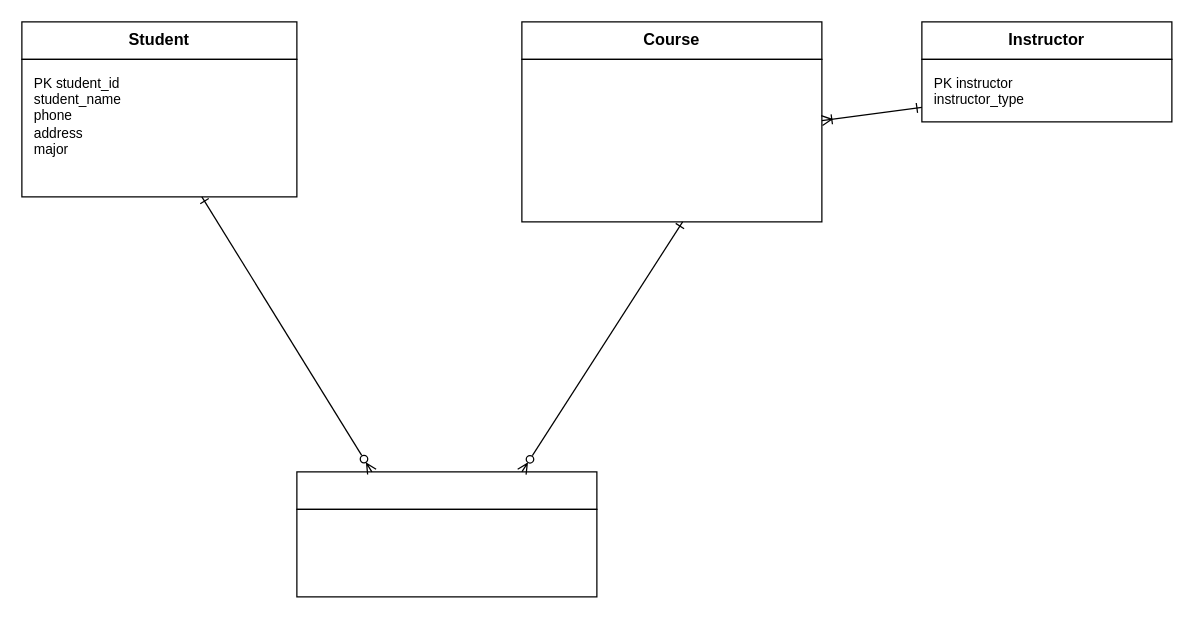
This 1194x619 diagram has some shape labels left out. The centre of each missing label's shape, as x and y in pixels:
PK course_id course_name FK instructor location time session: pixel 671 140
PK,FK1 student_id PK,FK2 course_id grade: pixel 446 552
Registration: pixel 446 490
